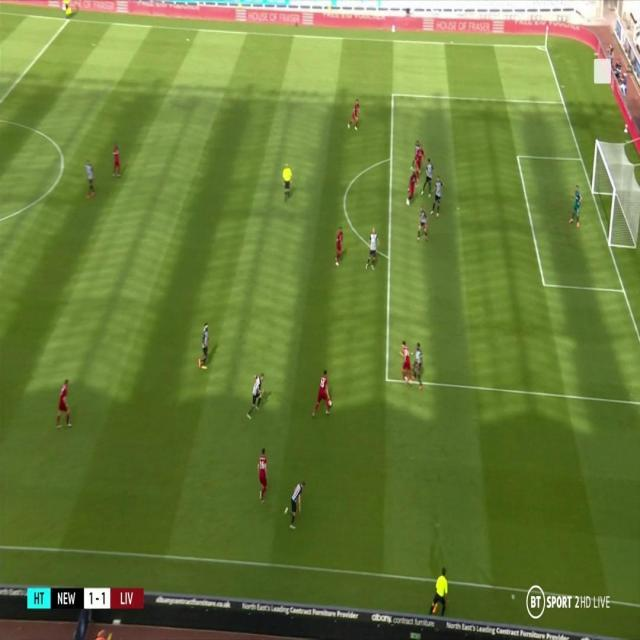ball: (327, 399, 333, 409)
goalkeeper: (566, 183, 584, 229)
player: (309, 367, 333, 421), (283, 480, 307, 531), (246, 370, 268, 423), (56, 376, 73, 434), (255, 445, 269, 505), (197, 321, 213, 372), (397, 339, 413, 390), (365, 227, 381, 272), (414, 204, 430, 248), (412, 340, 426, 389), (430, 177, 446, 219), (420, 160, 436, 200), (84, 158, 99, 198), (413, 143, 426, 187), (347, 97, 364, 130), (110, 140, 124, 180), (404, 169, 418, 207), (334, 224, 346, 265)
referee: (428, 570, 454, 620), (281, 161, 295, 202)
